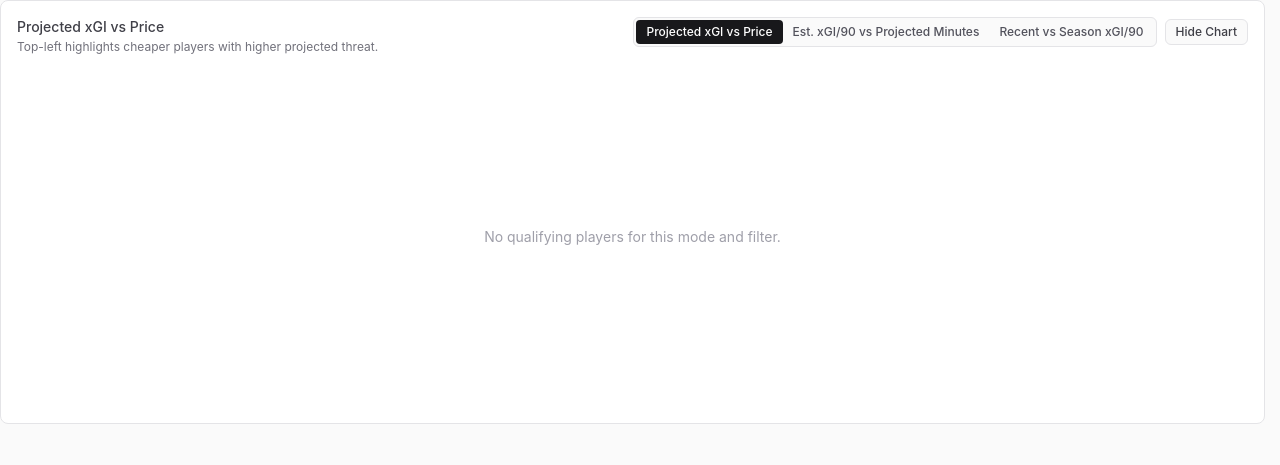
it: renders empty state when no players qualify for the active mode
The width and height of the screenshot is (1280, 465).
Check: the text "No qualifying players for this mode and filter." is shown, box [484,228,781,245]
// Switching to a mode where the player has valid data renders the chart.
Click the button "Est. xGI/90 vs Projected Minutes". click: (886, 32)
box: [783,20,989,44]
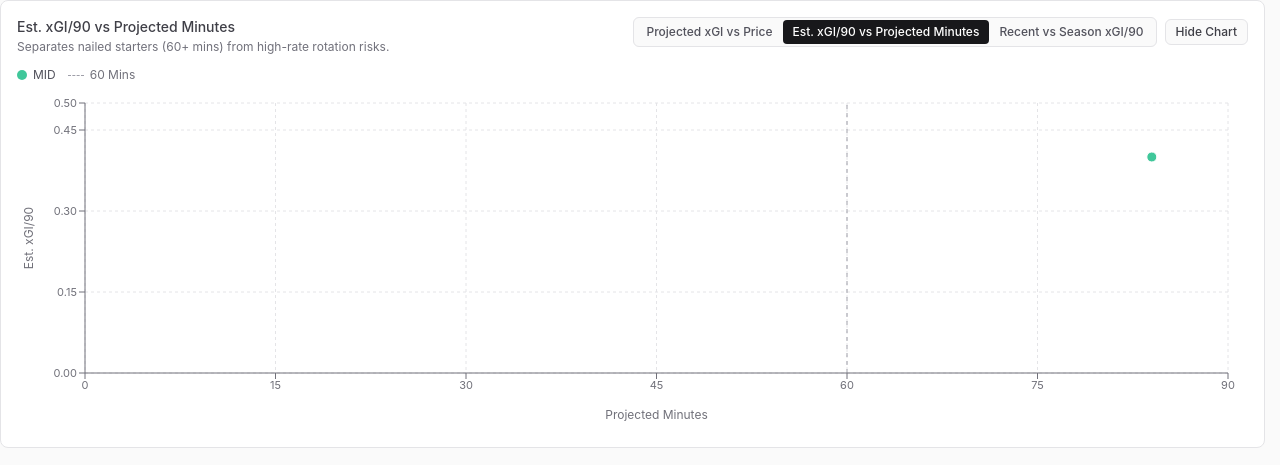
Check: the text "No qualifying players for this mode and filter." is gone
